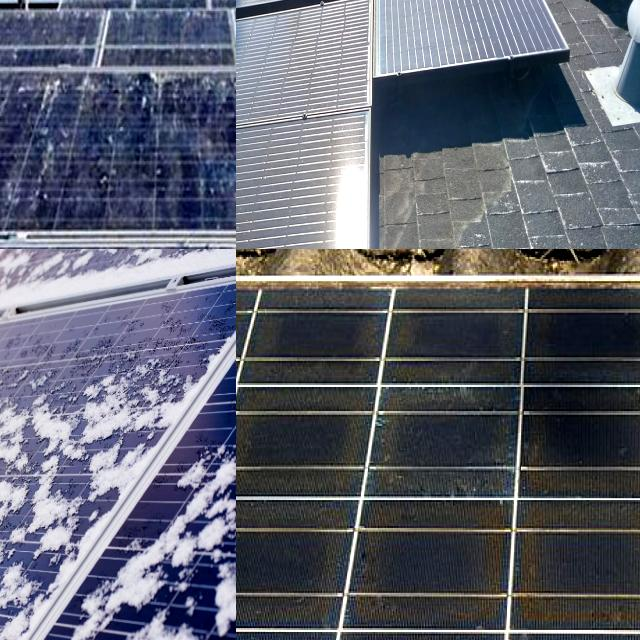bird: (108, 82, 215, 118), (6, 136, 62, 202), (160, 68, 227, 120), (22, 57, 64, 121)
dust: (236, 41, 283, 183), (236, 150, 303, 249), (236, 0, 312, 60), (236, 0, 265, 128)
panel: (80, 352, 178, 496), (0, 392, 78, 505), (131, 531, 208, 640), (0, 520, 76, 612), (179, 447, 236, 553), (0, 488, 55, 574), (62, 574, 130, 640), (0, 561, 54, 640), (138, 249, 236, 290), (0, 399, 51, 474), (0, 472, 47, 550), (0, 249, 42, 324), (0, 492, 42, 565), (0, 249, 51, 309), (0, 565, 40, 639), (0, 429, 53, 483), (37, 249, 137, 277), (0, 597, 62, 640), (0, 249, 44, 309), (0, 562, 44, 618), (51, 249, 121, 275), (0, 579, 34, 625), (0, 249, 46, 275)
shadow: (356, 506, 501, 628), (377, 383, 513, 497), (525, 505, 640, 622), (388, 286, 521, 376), (526, 275, 640, 380), (526, 388, 640, 491), (236, 504, 334, 622), (236, 288, 368, 375), (236, 394, 349, 485)
